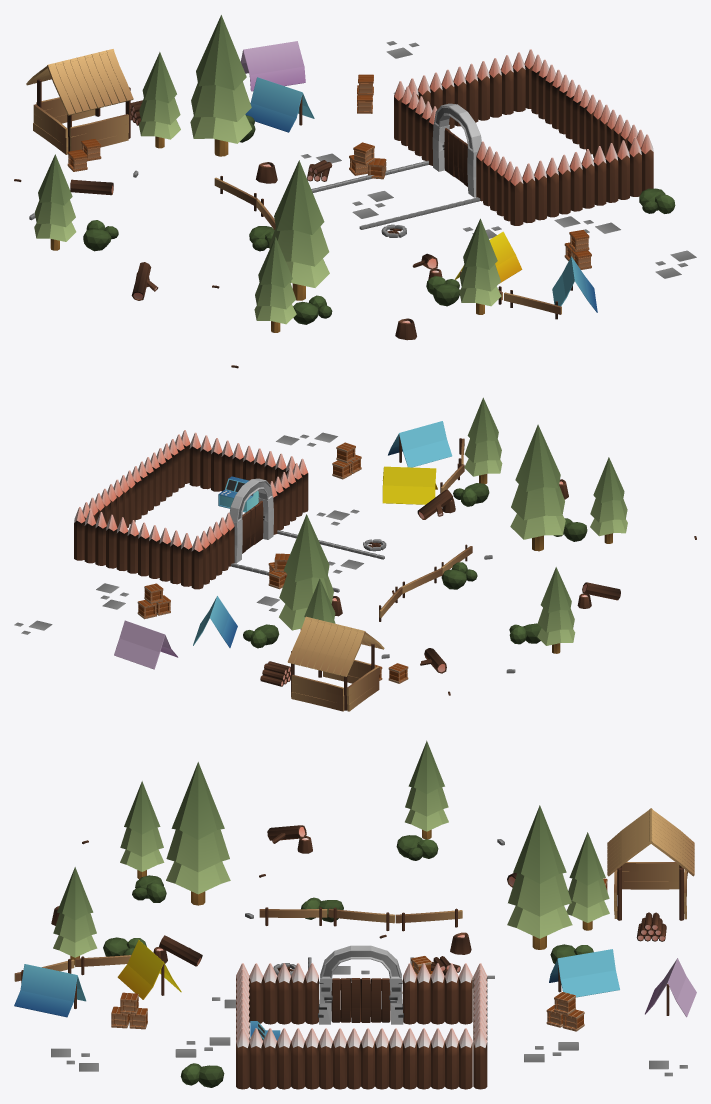
The model's file is environment.fbx.
The picture shows the model from 3 angles, top to bottom: view 1: azimuth 30°, elevation 25°; view 2: azimuth 150°, elevation 25°; view 3: azimuth 270°, elevation 25°; orthographic projection. The views are drawn at different scales.
Parts seen in each view (by area): view 1: Cylinder, Cylinder.001, Cylinder.027, Cylinder.008, Cylinder.007, Cube.082, Cylinder.012, Cylinder.009, Cylinder.010, Cylinder.011, Plane.004, Plane.002 (+12 smaller); view 2: Cylinder, Cylinder.027, Cylinder.008, Cylinder.001, Cylinder.007, Cube.082, Cylinder.011, Cylinder.009, Cylinder.010, Plane.001, Plane.003, Plane.004 (+11 smaller); view 3: Cylinder.027, Cylinder.007, Cylinder.001, Cylinder.008, Cylinder, Cube.082, Cube.002, Plane.003, Cylinder.010, Cylinder.009, Cylinder.012, Plane.002 (+12 smaller).
Boxes of the visible parts, left/top/right/bottom form: Cylinder: left=394, top=49, right=653, bottom=225; Cylinder.001: left=190, top=15, right=251, bottom=156; Cylinder.027: left=531, top=54, right=644, bottom=157; Cylinder.008: left=269, top=160, right=329, bottom=300; Cylinder.007: left=401, top=86, right=514, bottom=221; Cube.082: left=26, top=49, right=133, bottom=115; Cylinder.012: left=139, top=52, right=180, bottom=148; Cylinder.009: left=254, top=236, right=296, bottom=332; Cylinder.010: left=34, top=154, right=76, bottom=250; Cylinder.011: left=459, top=218, right=501, bottom=314; Plane.004: left=240, top=41, right=305, bottom=91; Plane.002: left=245, top=77, right=314, bottom=132; Cylinder: left=74, top=430, right=308, bottom=589; Cylinder.027: left=82, top=434, right=184, bottom=527; Cylinder.008: left=510, top=424, right=565, bottom=551; Cylinder.001: left=279, top=514, right=334, bottom=630; Cylinder.007: left=200, top=463, right=302, bottom=584; Cube.082: left=287, top=616, right=384, bottom=676; Cylinder.011: left=464, top=397, right=502, bottom=484; Cylinder.009: left=590, top=457, right=627, bottom=543; Cylinder.010: left=537, top=567, right=575, bottom=653; Plane.001: left=382, top=466, right=437, bottom=504; Plane.003: left=388, top=421, right=452, bottom=467; Plane.004: left=114, top=620, right=178, bottom=669; Cylinder.027: left=249, top=1028, right=472, bottom=1089; Cylinder.007: left=249, top=963, right=472, bottom=1024; Cylinder.001: left=507, top=805, right=572, bottom=949; Cylinder.008: left=166, top=762, right=230, bottom=905; Cylinder: left=236, top=963, right=487, bottom=1089; Cube.082: left=607, top=808, right=694, bottom=876; Cube.002: left=331, top=978, right=390, bottom=1022; Plane.003: left=14, top=964, right=86, bottom=1017; Cylinder.010: left=405, top=740, right=448, bottom=839; Cylinder.009: left=120, top=781, right=164, bottom=878; Cylinder.012: left=566, top=832, right=609, bottom=930; Plane.002: left=549, top=949, right=619, bottom=997.
Bounding box in the file's own units: 3386 × 885 × 3723.
